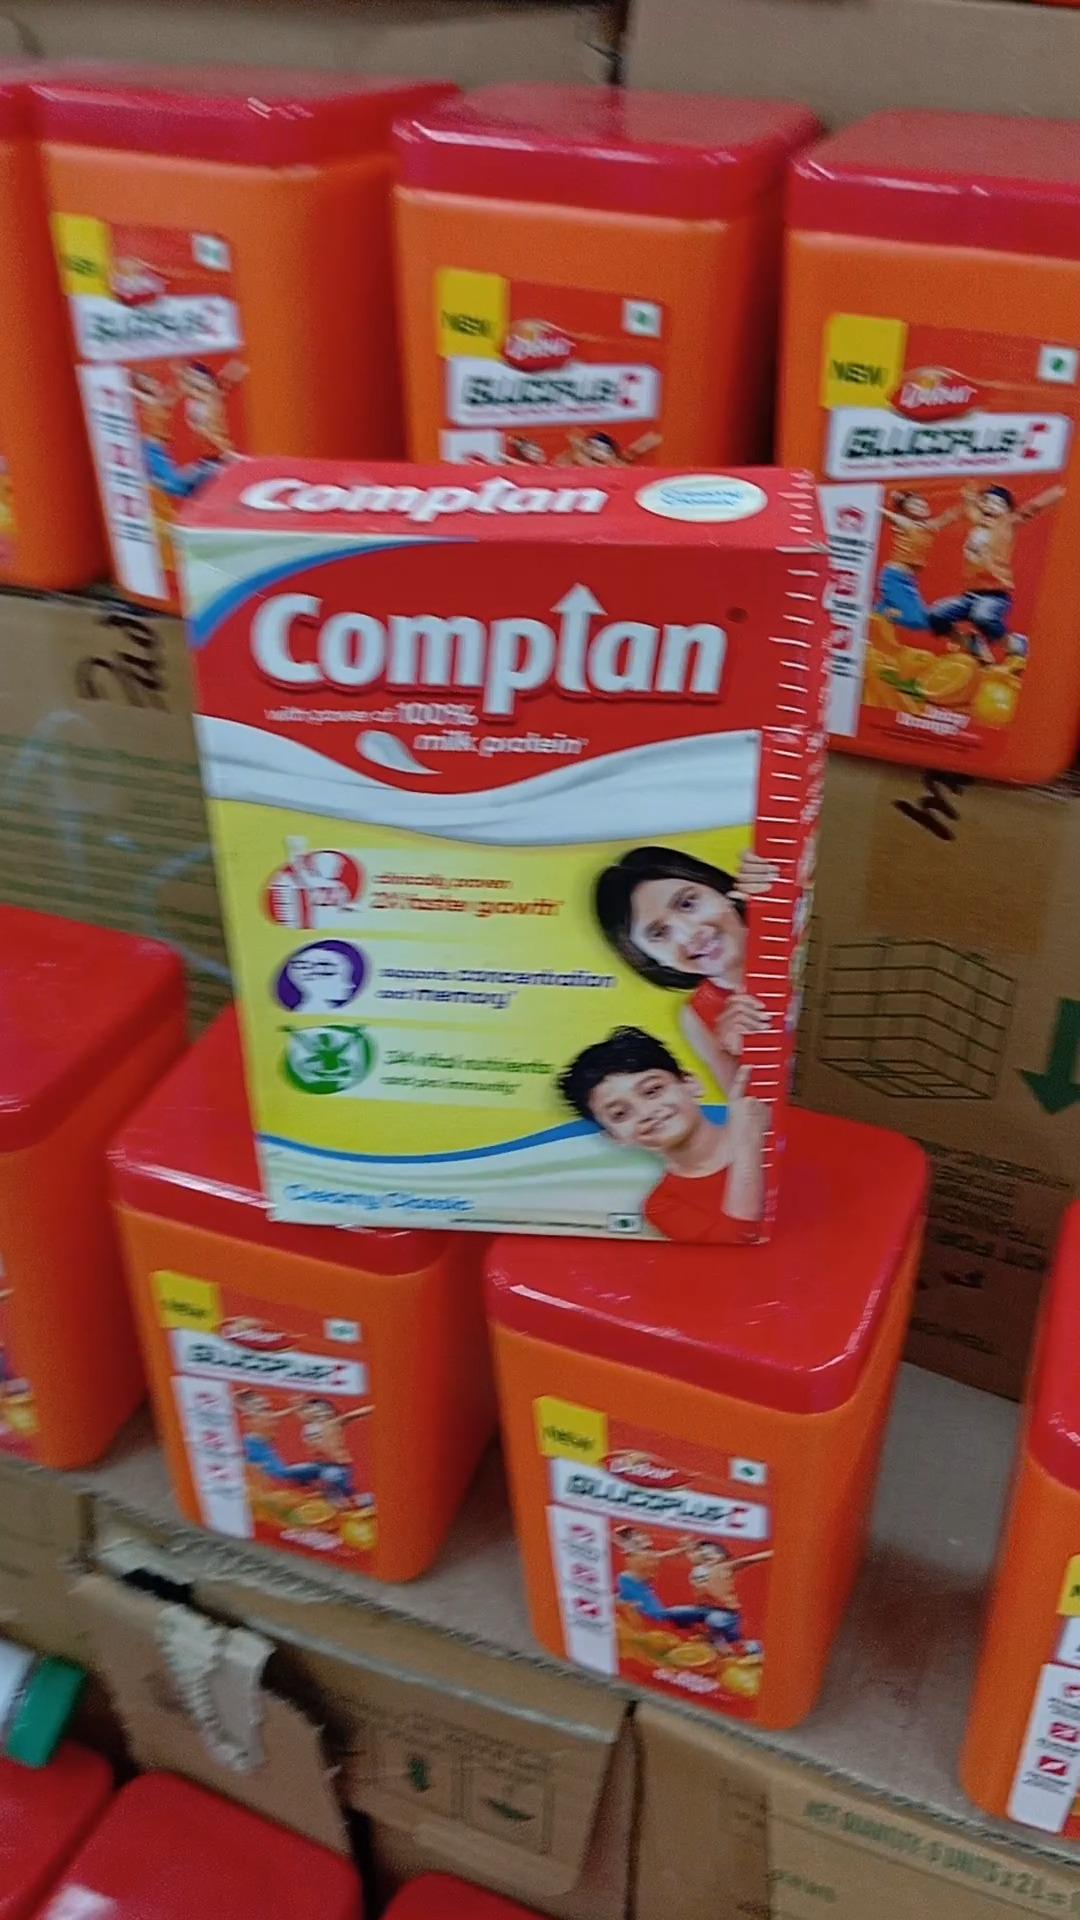COMPLAN_CREAMY_CLASSIC_500_G_PACK: (212, 512, 767, 1232)
